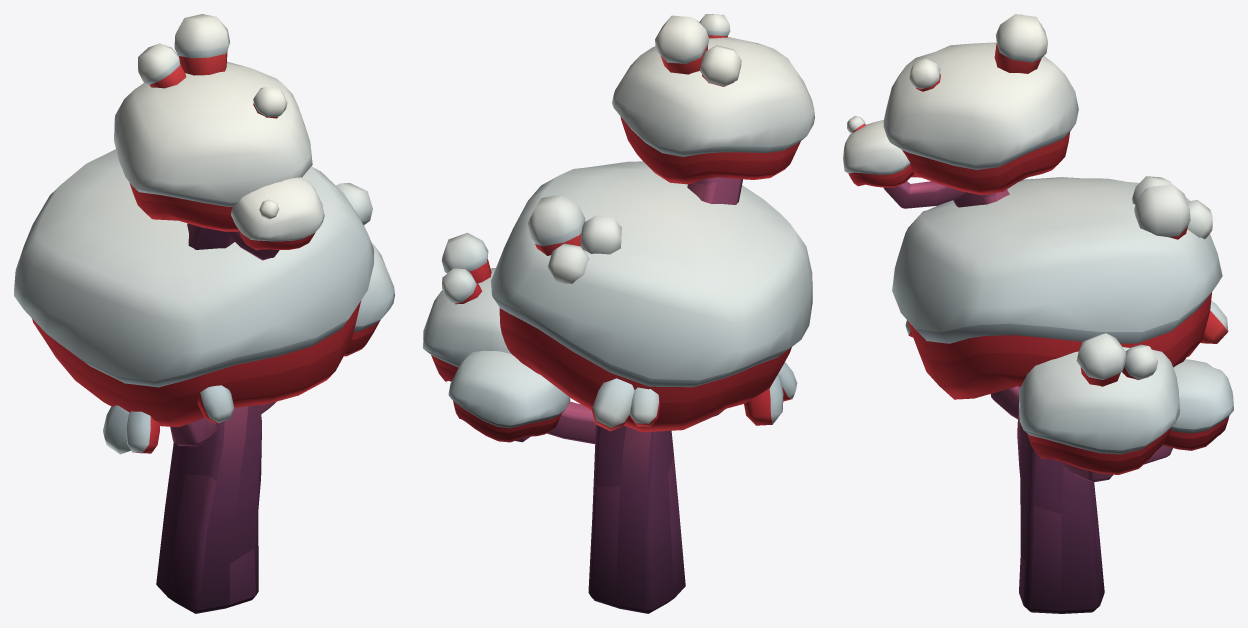
Rendered from grassland_tree_col3_7_snow.fbx.
The picture shows the model from 3 angles, left to right: view 1: azimuth 30°, elevation 25°; view 2: azimuth 150°, elevation 25°; view 3: azimuth 270°, elevation 25°; orthographic projection. The views are drawn at different scales.
Visible parts, largest first — view 1: grassland_tree_col3_7_snow; view 2: grassland_tree_col3_7_snow; view 3: grassland_tree_col3_7_snow.
Part boxes in pixels (x1,y1,x2,y2): grassland_tree_col3_7_snow: (14, 14, 394, 613); grassland_tree_col3_7_snow: (423, 14, 814, 613); grassland_tree_col3_7_snow: (843, 14, 1233, 613).
Size of the model in its own units: 726 by 1187 by 738.
Materials: 1 (1 with a texture image).
